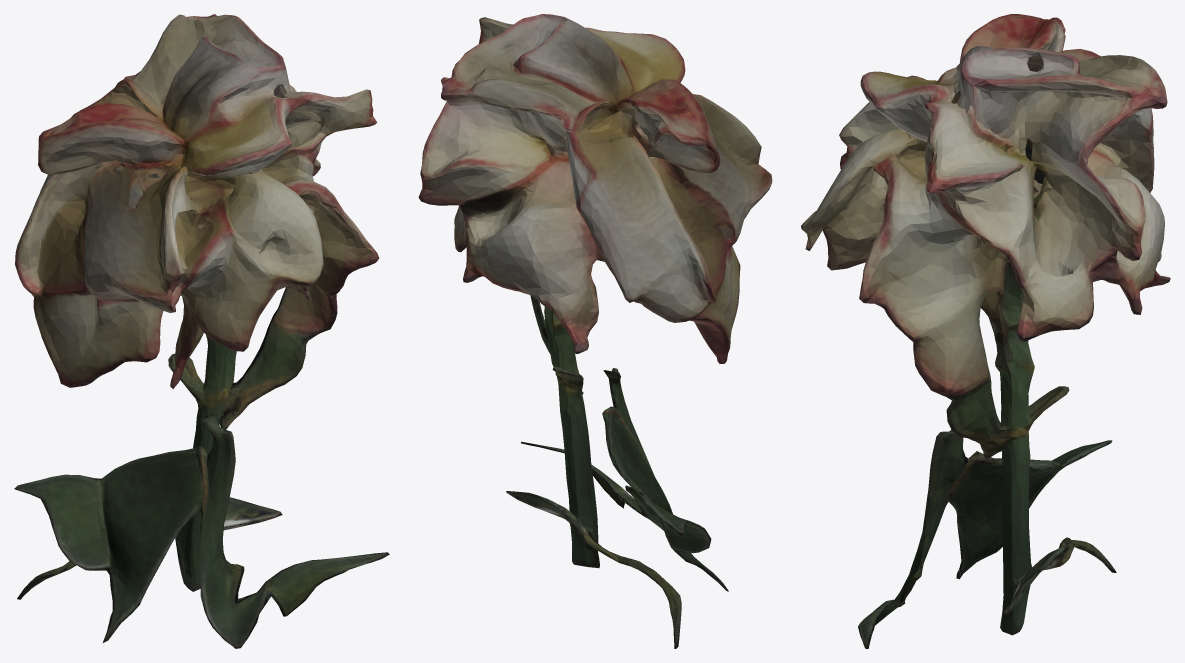
3 renders of one model, left to right at view 1: azimuth 30°, elevation 25°; view 2: azimuth 150°, elevation 25°; view 3: azimuth 270°, elevation 25°, orthographic. The views are drawn at different scales.
Visible parts, largest first — view 1: world; view 2: world; view 3: world.
Boxes of the visible parts, left/top/right/bottom form: world: left=14, top=14, right=389, bottom=648; world: left=418, top=14, right=772, bottom=648; world: left=801, top=14, right=1170, bottom=648.
Size of the model in its own units: 0.5636 by 0.9821 by 0.5329.
Materials: 1 (1 with a texture image).
